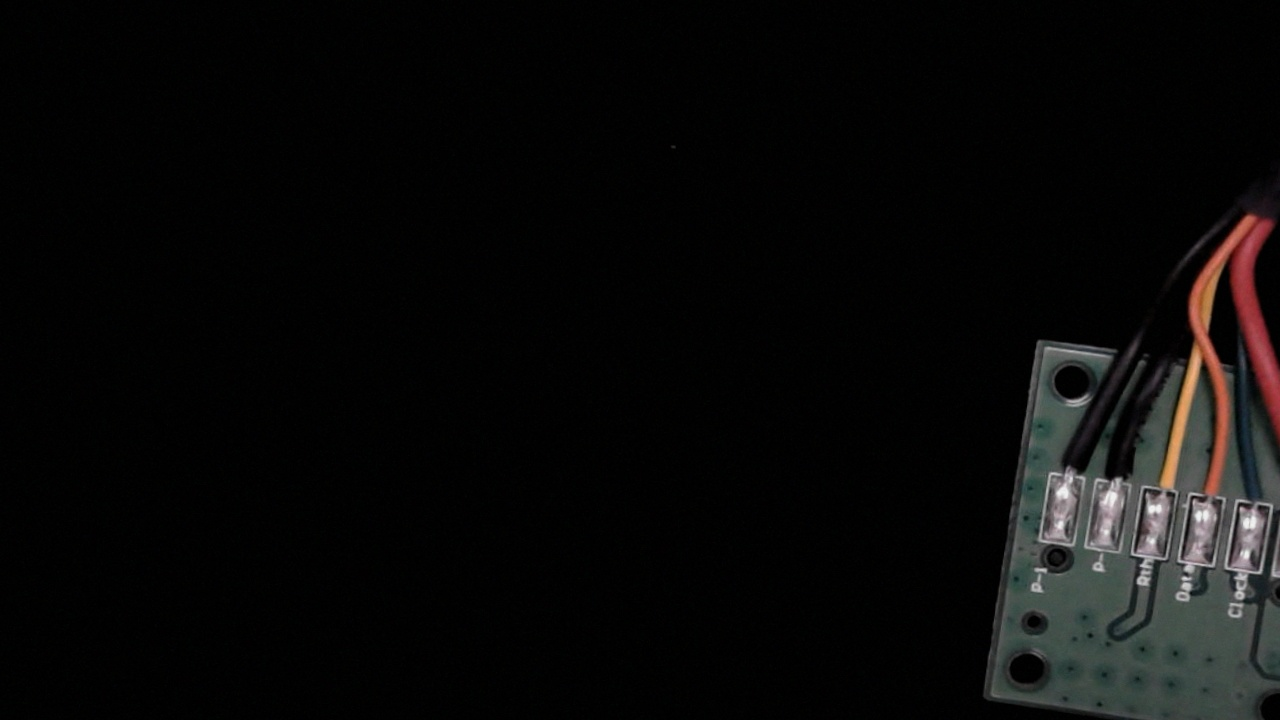Black: (1095, 427, 1143, 502)
Black1: (1045, 415, 1097, 494)
Green: (1233, 444, 1280, 527)
Orange: (1188, 433, 1239, 518)
Red: (1277, 451, 1280, 534)
Yellow: (1138, 424, 1193, 512)
